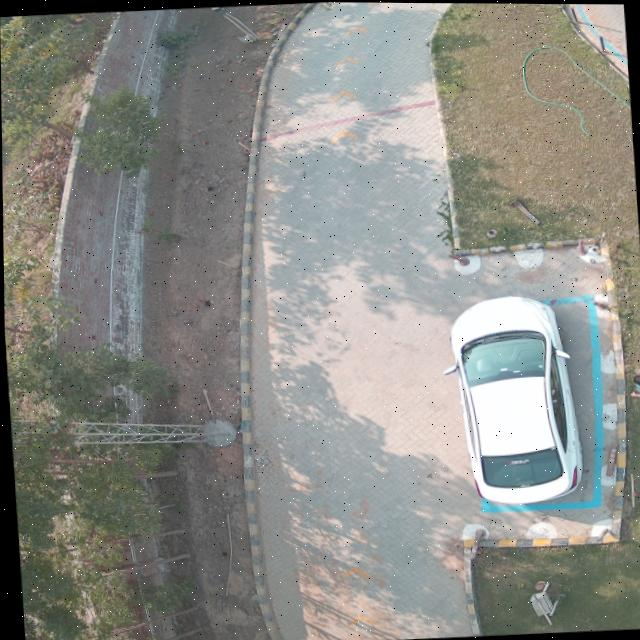car: (450, 294, 581, 502)
